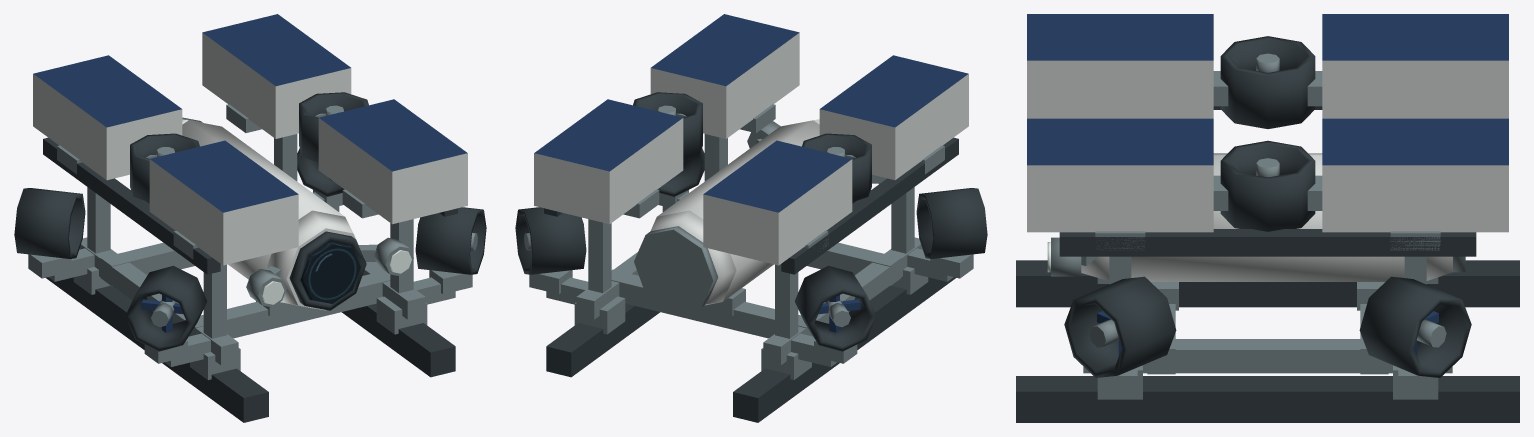
Rendered from Aquatic_Rover_LOD2.glb.
The picture shows the model from 3 angles, left to right: view 1: azimuth 30°, elevation 25°; view 2: azimuth 150°, elevation 25°; view 3: azimuth 270°, elevation 25°; orthographic projection. The views are drawn at different scales.
Visible parts, largest first — view 1: AquaticRover_LOD2; view 2: AquaticRover_LOD2; view 3: AquaticRover_LOD2.
Boxes of the visible parts, bbox=[...] form: AquaticRover_LOD2: bbox=[14, 14, 486, 422]; AquaticRover_LOD2: bbox=[515, 14, 987, 422]; AquaticRover_LOD2: bbox=[1016, 14, 1519, 422].
Size of the model in its own units: 2.44 by 1.36 by 2.32.
Materials: 1 (1 with a texture image).
